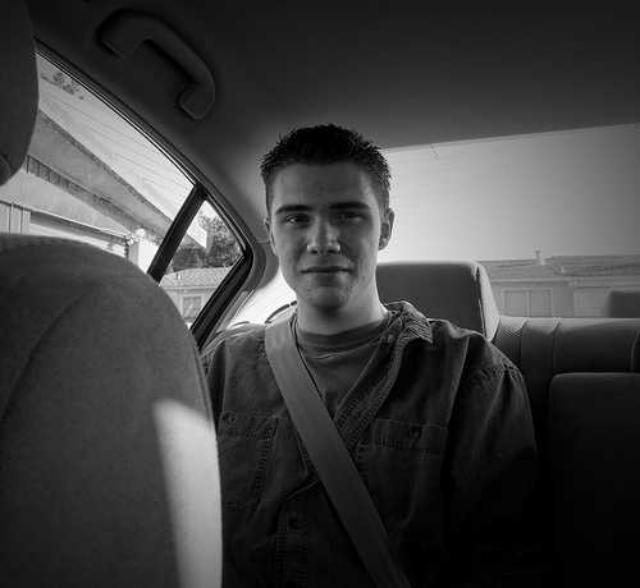SafeDriving: (326, 204, 369, 226), (276, 206, 316, 228)
Seatbelt: (261, 303, 403, 588)
